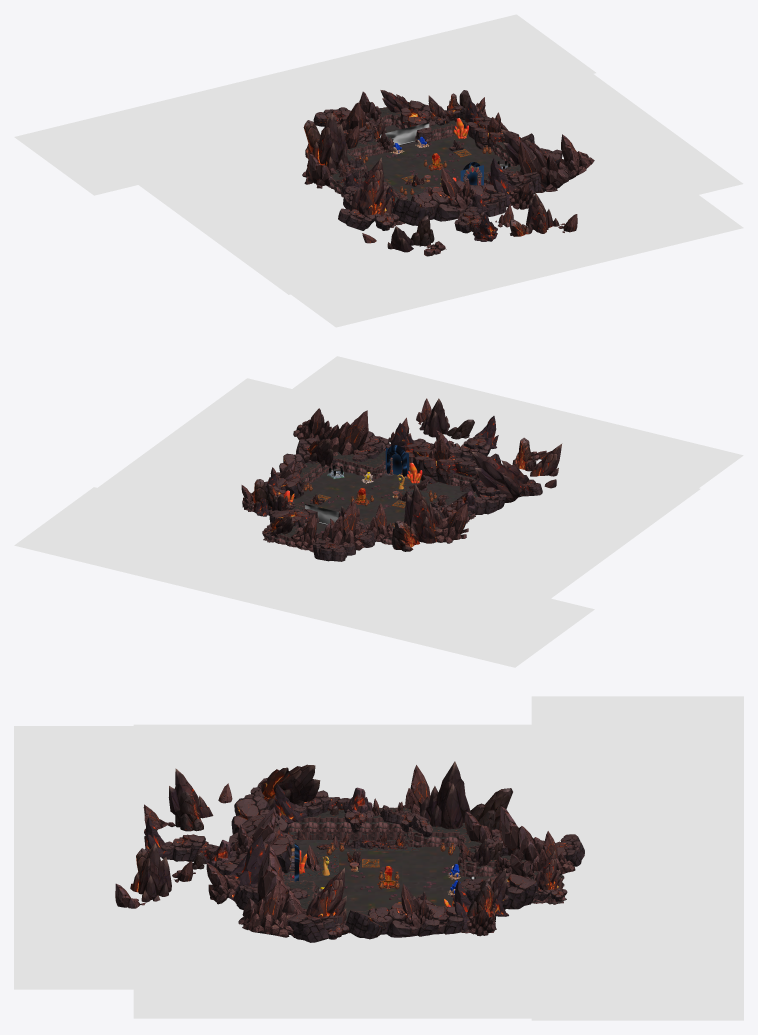
Rendered from LevelMap_1070501.glb.
3 renders of one model, top to bottom at view 1: azimuth 30°, elevation 25°; view 2: azimuth 150°, elevation 25°; view 3: azimuth 270°, elevation 25°, orthographic. The views are drawn at different scales.
Parts seen in each view (by area): view 1: EnvCavern_Detail__Lava_6__u3614, EnvCavern_Detail__Lava_2__u3970, EnvCavern_Detail__Lava_1__u3620, EnvCavern_Detail__Lava_3__u3880, EnvCavern_Detail__Lava_4__u3291, EnvCavern_Detail__Lava_5__u3273, LevelMap_1070501_Terrain_1__u3047, LevelMap_1070501_Terrain__u3493, EnvCavern_Detail__Lava_8__u2112, EnvCavern_Detail__Rock___5__u3027, EnvCavern_Detail__Rock___2__u2049, EnvCavern_Detail__Lava_7__u3552 (+12 smaller); view 2: EnvCavern_Detail__Lava_6__u3614, EnvCavern_Detail__Lava_2__u3970, EnvCavern_Detail__Lava_3__u3880, EnvCavern_Detail__Lava_1__u3620, EnvCavern_Detail__Lava_5__u3273, EnvCavern_Detail__Lava_4__u3291, LevelMap_1070501_Terrain__u3493, EnvCavern_Detail__Lava_7__u3552, EnvCavern_Detail__Rock___2__u2049, EnvCavern_Detail__Rock___3__u3263, EnvCavern_Detail__Rock___2__u2820, EnvCavern_Detail__Rock___5__u3027 (+15 smaller); view 3: EnvCavern_Detail__Lava_6__u3614, EnvCavern_Detail__Lava_2__u3970, EnvCavern_Detail__Lava_3__u3880, EnvCavern_Detail__Lava_1__u3620, EnvCavern_Detail__Lava_4__u3291, EnvCavern_Detail__Lava_5__u3273, LevelMap_1070501_Terrain__u3493, EnvCavern_Detail__Lava_7__u3552, LevelMap_1070501_Terrain_1__u3047, EnvCavern_Detail__Lava_8__u2112, EnvCavern_Detail__Rock___2__u2820, EnvCavern_Detail__Rock___2__u2049 (+28 smaller).
Boxes of the visible parts, box(x1,y1,x2,y2) form: EnvCavern_Detail__Lava_6__u3614: box(14, 14, 595, 195); EnvCavern_Detail__Lava_2__u3970: box(238, 156, 743, 327); EnvCavern_Detail__Lava_1__u3620: box(139, 149, 434, 294); EnvCavern_Detail__Lava_3__u3880: box(474, 74, 743, 215); EnvCavern_Detail__Lava_4__u3291: box(348, 39, 574, 117); EnvCavern_Detail__Lava_5__u3273: box(153, 86, 330, 177); LevelMap_1070501_Terrain_1__u3047: box(361, 125, 482, 179); LevelMap_1070501_Terrain__u3493: box(362, 150, 513, 202); EnvCavern_Detail__Lava_8__u2112: box(528, 185, 623, 234); EnvCavern_Detail__Rock___5__u3027: box(516, 141, 569, 192); EnvCavern_Detail__Rock___2__u2049: box(351, 157, 393, 217); EnvCavern_Detail__Lava_7__u3552: box(224, 117, 308, 181); EnvCavern_Detail__Lava_6__u3614: box(14, 487, 594, 667); EnvCavern_Detail__Lava_2__u3970: box(242, 356, 743, 526); EnvCavern_Detail__Lava_3__u3880: box(97, 378, 380, 522); EnvCavern_Detail__Lava_1__u3620: box(405, 455, 700, 598); EnvCavern_Detail__Lava_5__u3273: box(270, 541, 494, 624); EnvCavern_Detail__Lava_4__u3291: box(75, 485, 270, 576); LevelMap_1070501_Terrain__u3493: box(303, 468, 466, 516); EnvCavern_Detail__Lava_7__u3552: box(339, 540, 470, 591); EnvCavern_Detail__Rock___2__u2049: box(472, 452, 528, 502); EnvCavern_Detail__Rock___3__u3263: box(412, 449, 477, 484); EnvCavern_Detail__Rock___2__u2820: box(404, 484, 442, 543); EnvCavern_Detail__Rock___5__u3027: box(321, 410, 368, 455); EnvCavern_Detail__Lava_6__u3614: box(531, 696, 743, 1020); EnvCavern_Detail__Lava_2__u3970: box(14, 726, 272, 989); EnvCavern_Detail__Lava_3__u3880: box(133, 923, 532, 1018); EnvCavern_Detail__Lava_1__u3620: box(133, 724, 532, 819); EnvCavern_Detail__Lava_4__u3291: box(479, 899, 691, 993); EnvCavern_Detail__Lava_5__u3273: box(479, 773, 691, 867); LevelMap_1070501_Terrain__u3493: box(284, 840, 402, 911); EnvCavern_Detail__Lava_7__u3552: box(467, 800, 618, 840); LevelMap_1070501_Terrain_1__u3047: box(402, 846, 509, 906); EnvCavern_Detail__Lava_8__u2112: box(117, 902, 292, 937); EnvCavern_Detail__Rock___2__u2820: box(419, 761, 470, 829); EnvCavern_Detail__Rock___2__u2049: box(261, 764, 320, 813).
Bounding box in the file's own units: 87.74 × 15.49 × 83.38.
36 materials, 35 textured.
